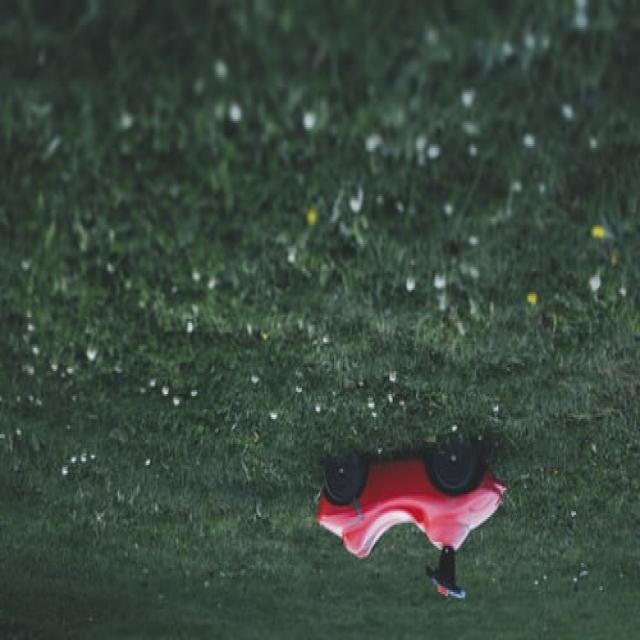Car: (316, 438, 508, 602)
